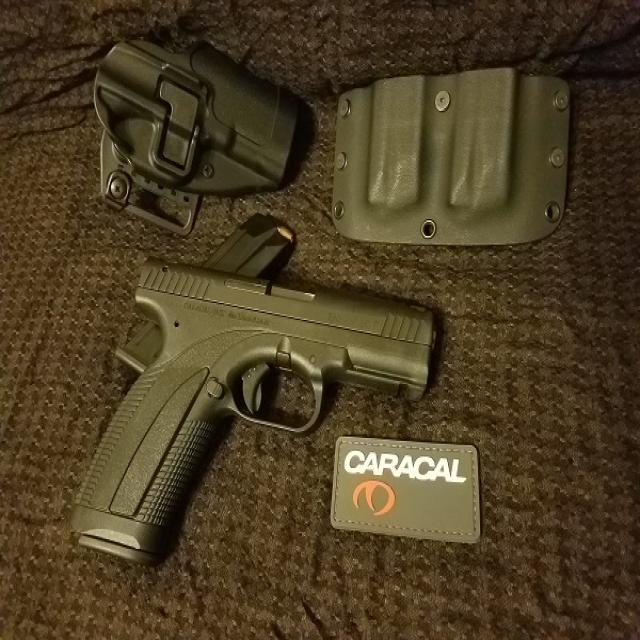Gun: (94, 220, 494, 595)
